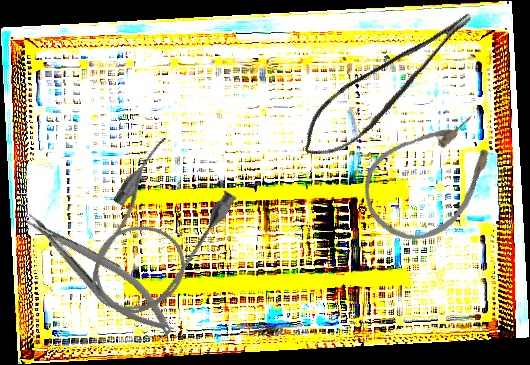Cannula: (63, 132, 244, 334), (345, 94, 518, 262)
Micro Scissor: (285, 6, 495, 170)
Needle Holder: (17, 197, 183, 349)
